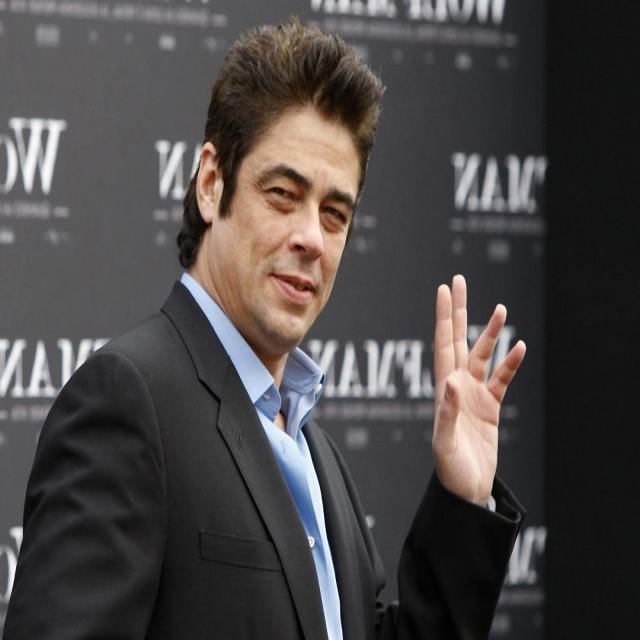no-earmuff: (182, 130, 235, 243)
